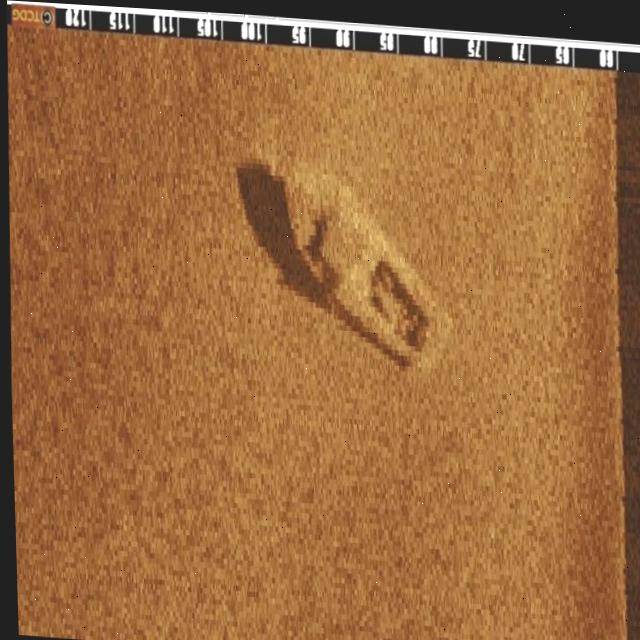shipwreck: (273, 152, 453, 373)
